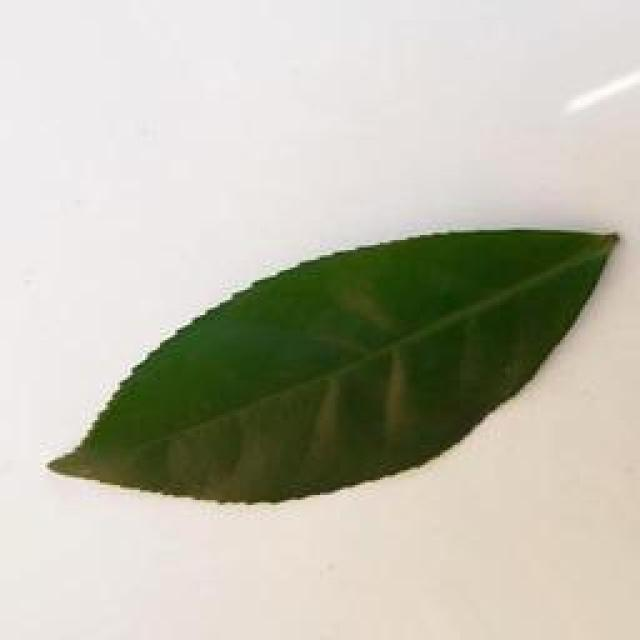Healthy: (28, 197, 638, 528)
